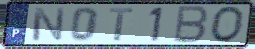0: (69, 6, 100, 44)
1: (147, 6, 165, 44)
B: (171, 5, 211, 45)
N: (31, 6, 67, 42)
O: (210, 6, 247, 45)
T: (108, 7, 135, 42)
